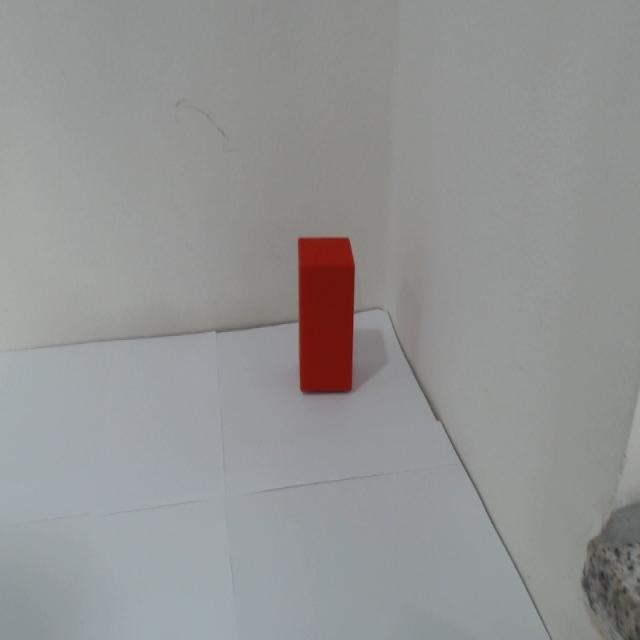cube: (296, 236, 357, 395)
